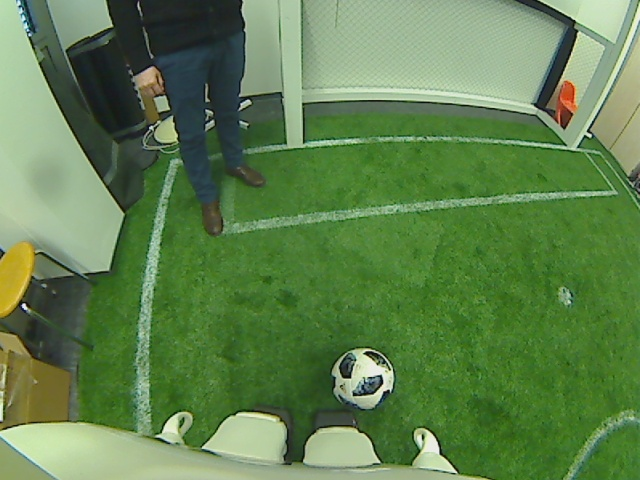ball: (329, 343, 394, 410)
